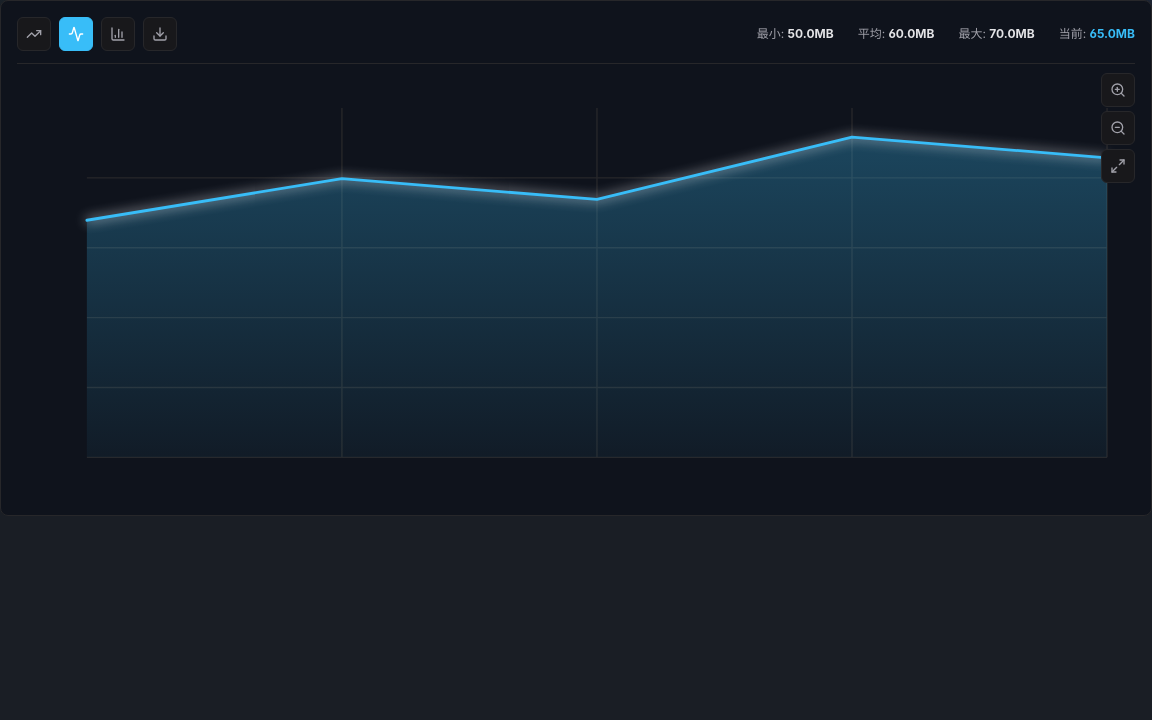
Scenario: InteractiveChart.vue › export functionality › shows CSV and PNG export options
Click the button with class "export-btn".
click(160, 34)  # box [143, 17, 177, 51]
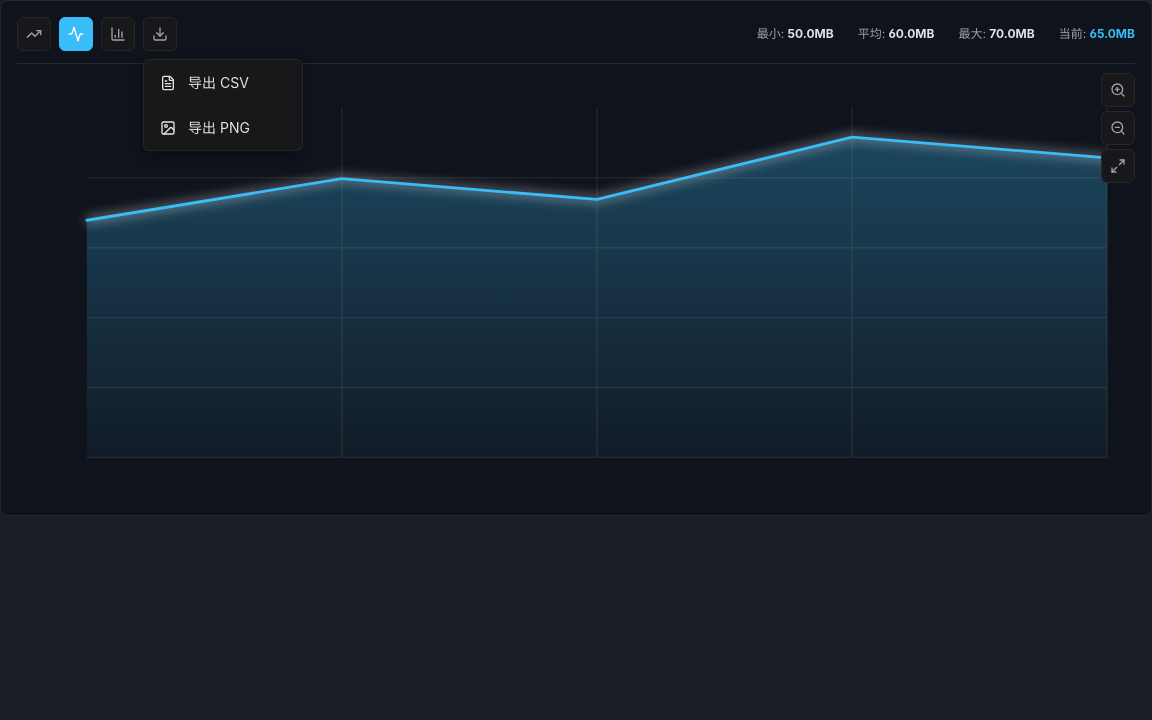
Now the number of buttons with class "export-menu-item" is 2, box [144, 60, 302, 105]; [144, 105, 302, 150]
Now the button with class "export-menu-item" shows "CSV", box [144, 60, 302, 105]
Now the button with class "export-menu-item" shows "PNG", box [144, 105, 302, 150]
